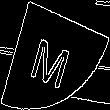M_N: (31, 23, 79, 87)
